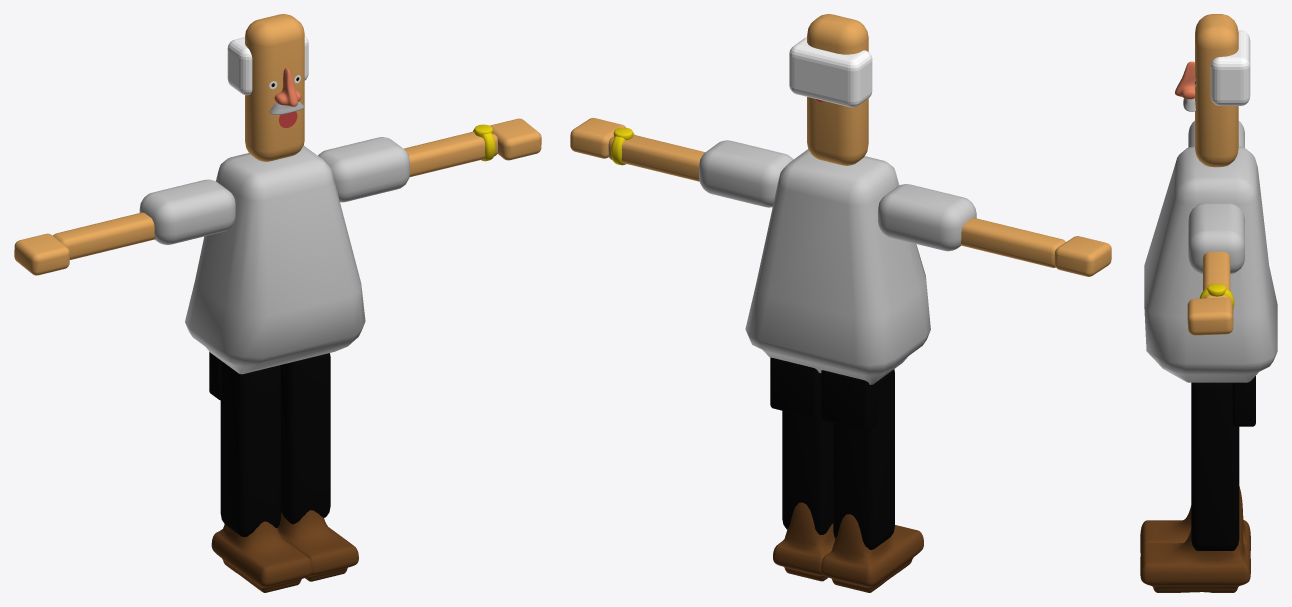
File: Dad_0004.fbx
3 views of the same model, side by side, from view 1: azimuth 30°, elevation 25°; view 2: azimuth 150°, elevation 25°; view 3: azimuth 270°, elevation 25° (orthographic). The views are drawn at different scales.
Parts seen in each view (by area): view 1: Cube_1_2, leg, Cube, Cube_2_3, Head, Cube_2, Cube_1, Cube_3; view 2: Cube_1_2, leg, Cube, Cube_2_3, Head, Cube_2, Cube_2_2, Cube_3, Cube_1; view 3: Cube_1_2, leg, Cube_2_3, Head, Cube, Cube_3, Cube_1, Cube_2_2, Cube_2, Cube_3_2, Cylinder.
Part boxes in pixels (x1,y1,x2,y2): Cube_1_2: [185, 145, 365, 374]; leg: [220, 353, 330, 536]; Cube: [139, 137, 409, 244]; Cube_2_3: [211, 510, 358, 592]; Head: [245, 14, 304, 161]; Cube_2: [53, 131, 497, 259]; Cube_1: [14, 118, 541, 275]; Cube_3: [227, 36, 308, 95]; Cube_1_2: [745, 149, 930, 384]; leg: [782, 369, 894, 549]; Cube: [699, 140, 976, 251]; Cube_2_3: [773, 502, 923, 592]; Head: [807, 14, 868, 165]; Cube_2: [608, 135, 1065, 267]; Cube_2_2: [770, 357, 877, 430]; Cube_3: [789, 37, 872, 107]; Cube_1: [570, 118, 1111, 276]; Cube_1_2: [1144, 146, 1277, 382]; leg: [1191, 382, 1239, 550]; Cube_2_3: [1140, 486, 1250, 592]; Head: [1195, 14, 1238, 167]; Cube: [1188, 121, 1244, 273]; Cube_3: [1210, 30, 1250, 105]; Cube_1: [1187, 297, 1233, 335]; Cube_2_2: [1232, 376, 1255, 426]; Cube_2: [1203, 251, 1230, 298]; Cube_3_2: [1175, 61, 1194, 99]; Cylinder: [1207, 283, 1226, 296].
Bounding box in the file's own units: 600 × 611 × 138.
Materials: 11 (2 with a texture image).
